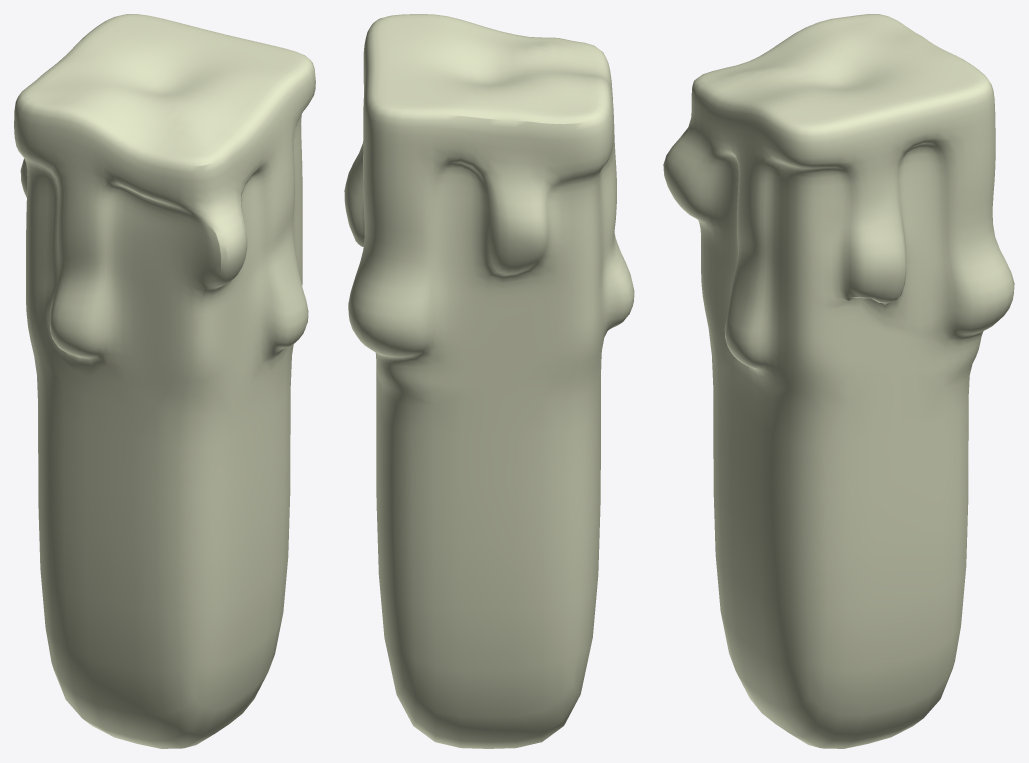
The model's file is candle.fbx.
3 views of the same model, side by side, from view 1: azimuth 30°, elevation 25°; view 2: azimuth 150°, elevation 25°; view 3: azimuth 270°, elevation 25° (orthographic).
Parts seen in each view (by area): view 1: Cube.004; view 2: Cube.004; view 3: Cube.004.
Part boxes in pixels (bbox=[...]): Cube.004: bbox=[14, 14, 315, 748]; Cube.004: bbox=[344, 14, 634, 748]; Cube.004: bbox=[663, 14, 1014, 748].
Size of the model in its own units: 14.91 by 35.76 by 17.1.
